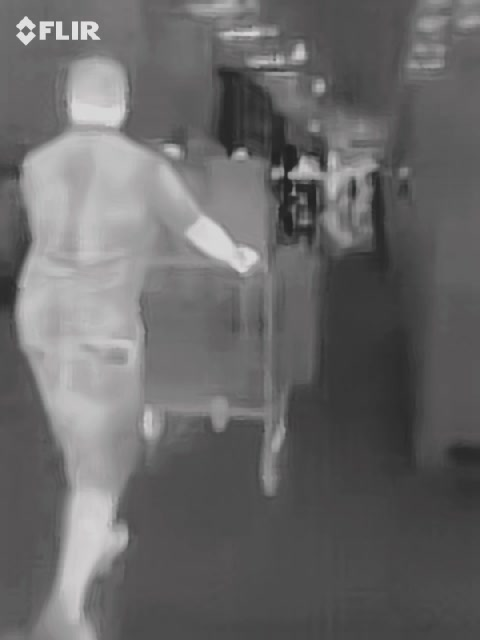head: (64, 52, 132, 127)
